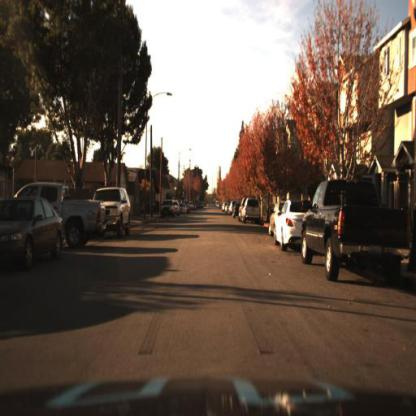car: (301, 171, 414, 276), (2, 197, 66, 269), (48, 180, 107, 244), (95, 187, 130, 238), (274, 200, 310, 249), (243, 199, 264, 228)
